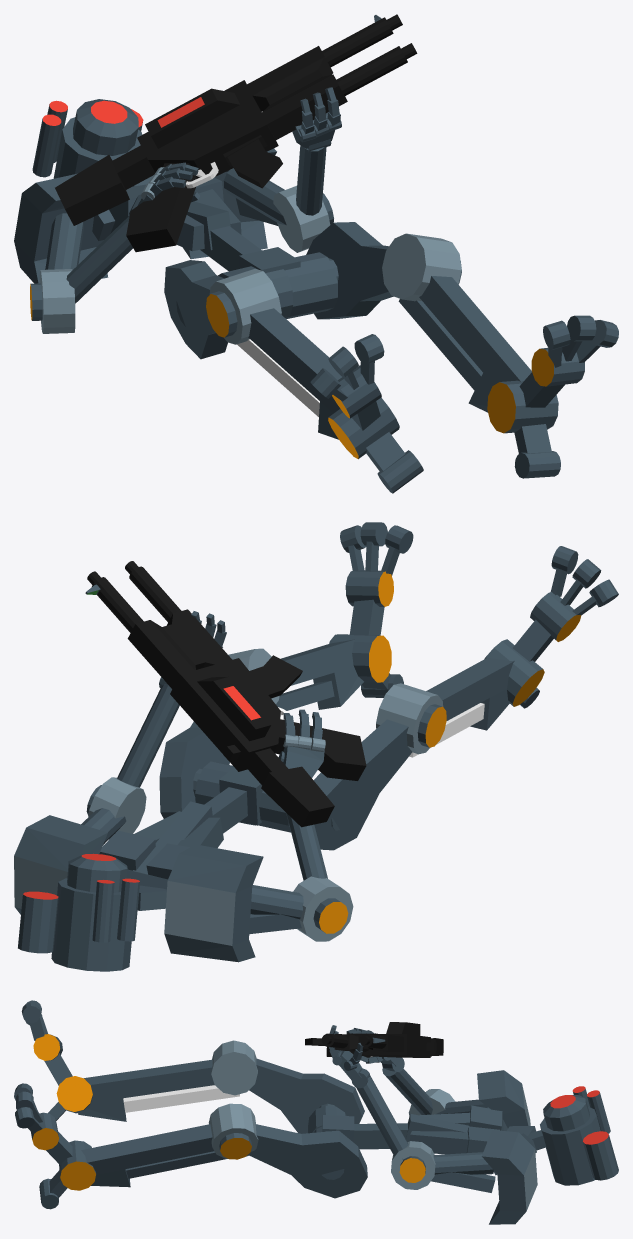
The picture shows the model from 3 angles, top to bottom: view 1: azimuth 30°, elevation 25°; view 2: azimuth 150°, elevation 25°; view 3: azimuth 270°, elevation 25°; orthographic projection. The views are drawn at different scales.
Visible parts, largest first — view 1: imagetostl_mesh0; view 2: imagetostl_mesh0; view 3: imagetostl_mesh0.
Boxes of the visible parts, box(x1,y1,x2,y2) form: imagetostl_mesh0: box(14, 14, 618, 493); imagetostl_mesh0: box(14, 522, 618, 971); imagetostl_mesh0: box(14, 1000, 618, 1224).
Size of the model in its own units: 58.41 by 49.32 by 133.
